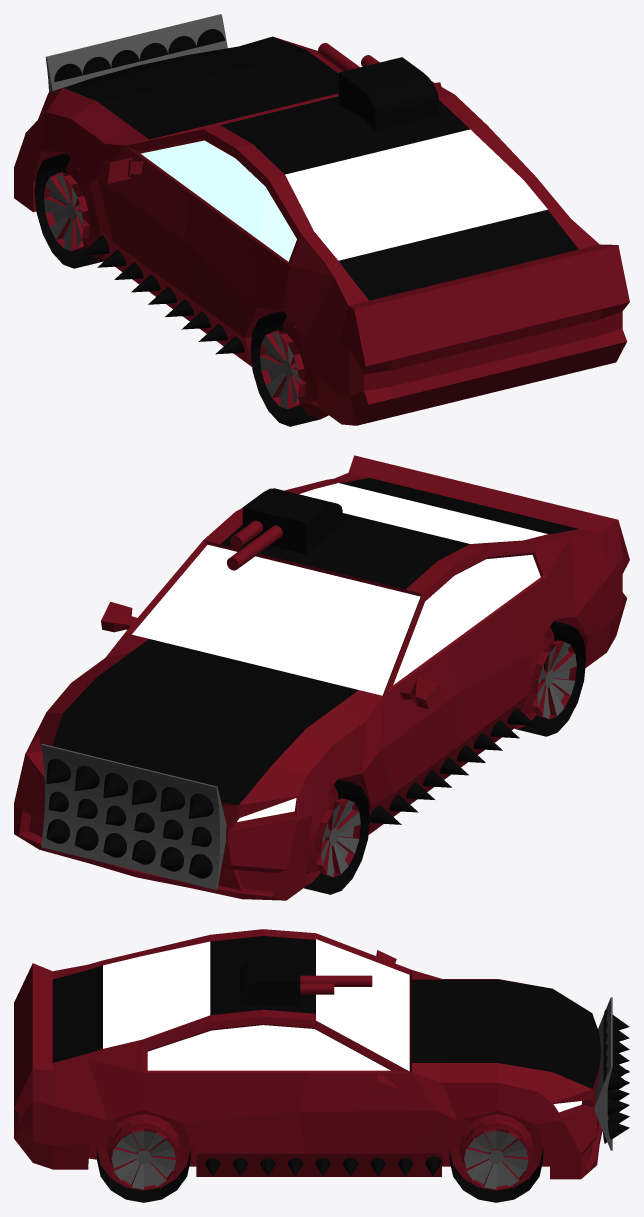
The model's file is EnemyCar.fbx.
The picture shows the model from 3 angles, top to bottom: view 1: azimuth 30°, elevation 25°; view 2: azimuth 150°, elevation 25°; view 3: azimuth 270°, elevation 25°; orthographic projection. The views are drawn at different scales.
Visible parts, largest first — view 1: Cube, Cube.001, Cube.002, Cone.003, Cone.001; view 2: Cube, Cube.002, Cube.001, Cone.001, Cone.002, Cone.003, Cone, Cylinder; view 3: Cube, Cube.001, Cone.003, Cube.002, Cone.001, Cylinder, Cone.002, Cylinder.001.
Part boxes in pixels (left/top/right/bottom): Cube: left=14, top=36, right=629, bottom=426; Cube.001: left=338, top=57, right=438, bottom=130; Cube.002: left=45, top=14, right=227, bottom=92; Cone.003: left=80, top=235, right=244, bottom=354; Cone.001: left=54, top=29, right=224, bottom=82; Cube: left=14, top=455, right=629, bottom=900; Cube.002: left=41, top=744, right=226, bottom=889; Cube.001: left=242, top=488, right=342, bottom=554; Cone.001: left=46, top=759, right=213, bottom=818; Cone.002: left=46, top=819, right=212, bottom=878; Cone.003: left=370, top=708, right=536, bottom=824; Cone: left=48, top=791, right=211, bottom=846; Cylinder: left=227, top=525, right=282, bottom=570; Cube: left=14, top=929, right=602, bottom=1202; Cube.001: left=240, top=956, right=300, bottom=1007; Cone.003: left=205, top=1156, right=442, bottom=1176; Cube.002: left=594, top=997, right=612, bottom=1150; Cone.001: left=603, top=1009, right=629, bottom=1090; Cylinder: left=300, top=975, right=372, bottom=986; Cone.002: left=602, top=1070, right=629, bottom=1143; Cylinder.001: left=300, top=983, right=334, bottom=994.
Bounding box in the file's own units: 238 × 162 × 459.
